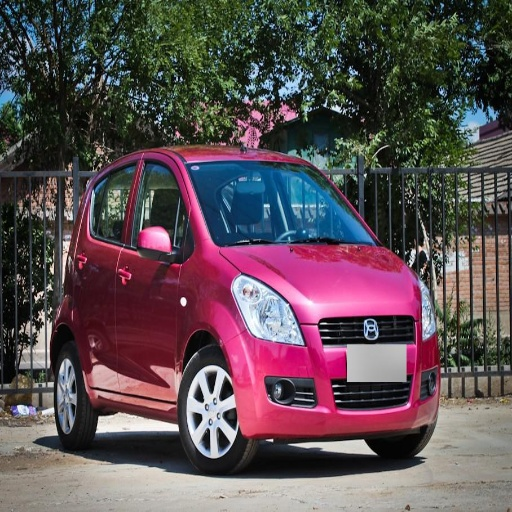front_bumper: (226, 316, 439, 439)
front_right_door: (117, 154, 191, 398)
front_right_light: (232, 275, 305, 345)
